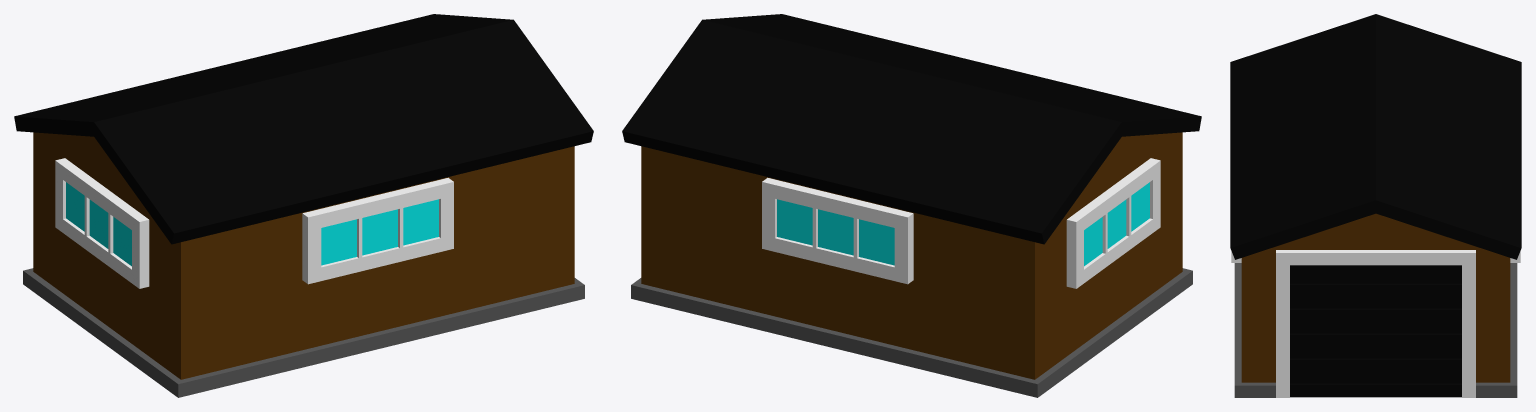
The model's file is garage_001_connected.fbx.
3 views of the same model, side by side, from view 1: azimuth 30°, elevation 25°; view 2: azimuth 150°, elevation 25°; view 3: azimuth 270°, elevation 25° (orthographic). The views are drawn at different scales.
Parts seen in each view (by area): view 1: Cube.002; view 2: Cube.002; view 3: Cube.002.
Boxes of the visible parts, bbox=[...] form: Cube.002: bbox=[14, 14, 593, 397]; Cube.002: bbox=[622, 14, 1201, 397]; Cube.002: bbox=[1230, 14, 1521, 397].
Size of the model in its own units: 640 by 321 by 423.
